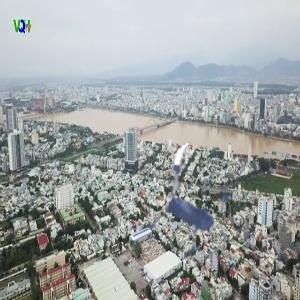drone: (134, 140, 266, 272)
